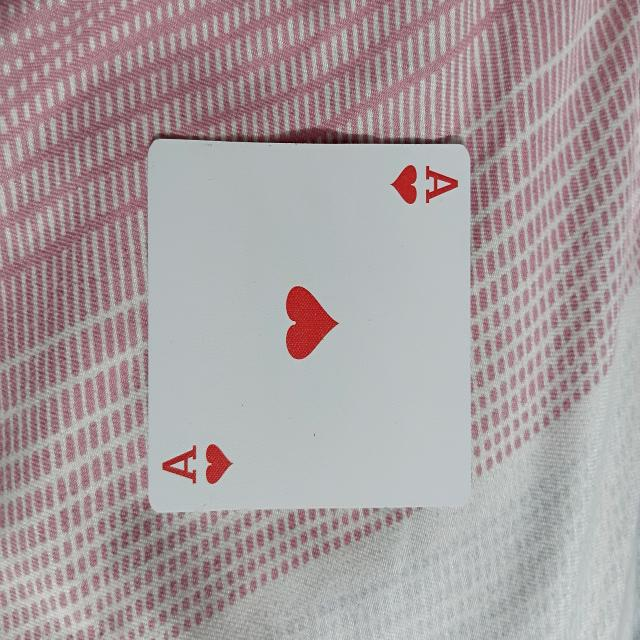AH: (146, 136, 474, 519)
